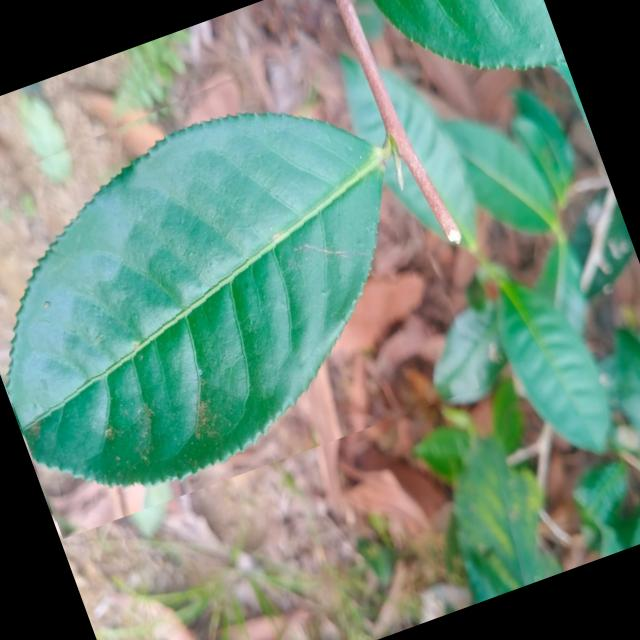Category D(7+ days, Not for Tea): (0, 28, 478, 540)
